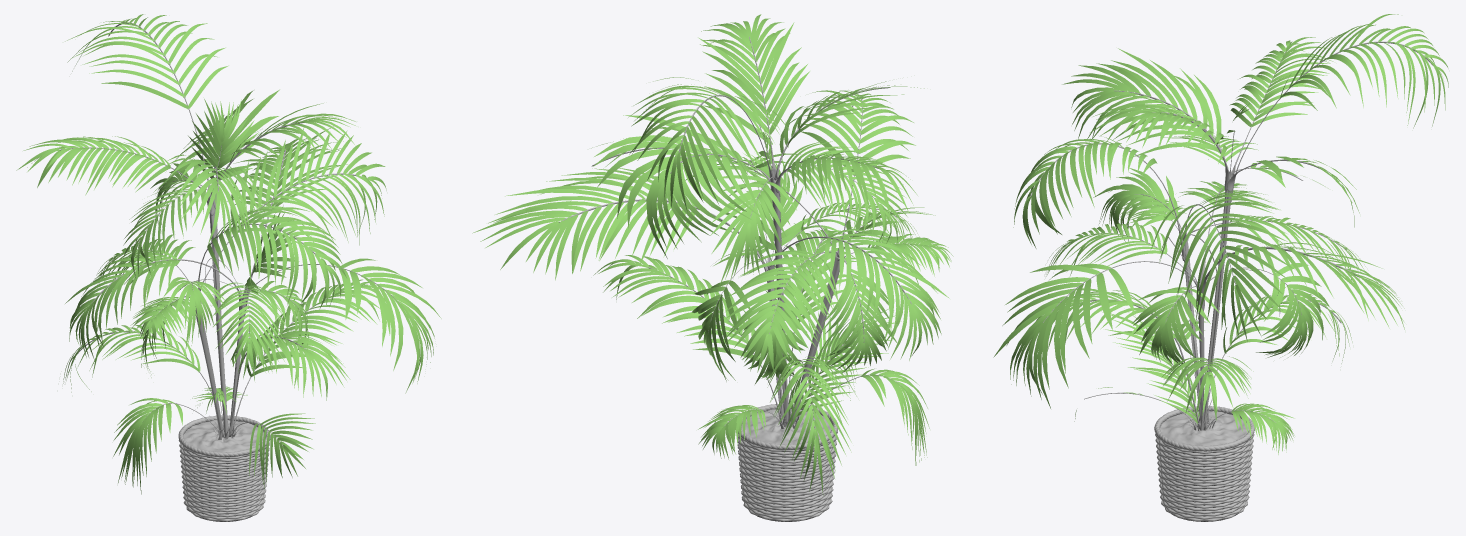
File: plant.glb
3 renders of one model, left to right at view 1: azimuth 30°, elevation 25°; view 2: azimuth 150°, elevation 25°; view 3: azimuth 270°, elevation 25°, orthographic. The views are drawn at different scales.
Visible parts, largest first — view 1: leaf, pot, stalk, dirt, stalk 1, pot head, stalk 3; view 2: leaf, pot, stalk, dirt, stalk 3, pot head, stalk 1; view 3: leaf, pot, stalk, dirt, pot head, stalk 1, stalk 3.
Part boxes in pixels (x1,y1,x2,y2): leaf: (16, 14, 441, 494); pot: (178, 426, 269, 521); stalk: (59, 22, 412, 445); dirt: (183, 420, 263, 452); stalk 1: (209, 205, 228, 434); pot head: (178, 415, 270, 457); stalk 3: (195, 306, 224, 436); leaf: (472, 14, 953, 495); pot: (737, 409, 837, 521); stalk: (559, 36, 929, 438); dirt: (741, 409, 831, 444); stalk 3: (792, 256, 839, 421); pot head: (738, 404, 837, 450); stalk 1: (772, 179, 788, 423); leaf: (993, 14, 1448, 454); pot: (1155, 433, 1254, 521); stalk: (1030, 41, 1432, 430); dirt: (1160, 411, 1248, 445); pot head: (1154, 405, 1254, 451); stalk 1: (1204, 176, 1232, 424); stalk 3: (1184, 240, 1200, 422).
Size of the model in its own units: 663 by 756 by 672.
